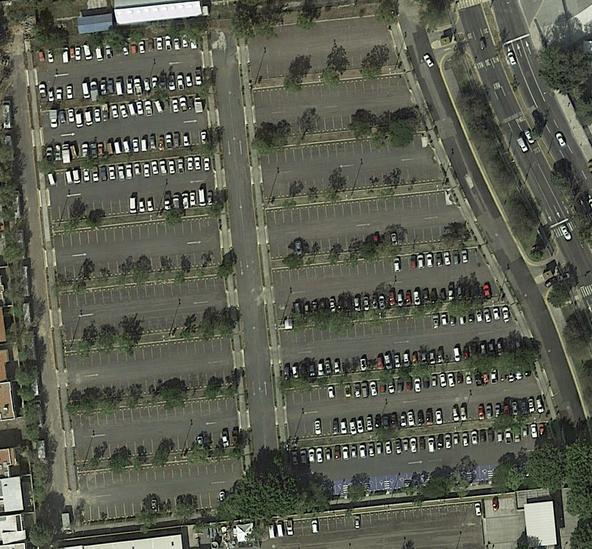parkingspot: (290, 422, 551, 467), (288, 396, 548, 441), (285, 363, 538, 406), (282, 338, 524, 381), (278, 304, 512, 347), (276, 280, 494, 321), (267, 500, 483, 540), (272, 247, 480, 286), (269, 224, 451, 261), (266, 190, 448, 226), (41, 93, 208, 132), (34, 32, 201, 69), (50, 187, 217, 224), (263, 166, 437, 201), (46, 154, 214, 190), (58, 274, 226, 310), (63, 308, 231, 344), (38, 68, 205, 104), (44, 128, 211, 164), (56, 249, 223, 285), (65, 334, 232, 370), (71, 394, 238, 430), (74, 429, 241, 465), (53, 214, 219, 250), (77, 455, 244, 490), (260, 132, 424, 166), (68, 369, 236, 402), (256, 108, 412, 141), (253, 74, 400, 108), (81, 492, 220, 524), (246, 14, 386, 45), (250, 51, 389, 81), (334, 471, 420, 497), (484, 497, 518, 519), (468, 464, 493, 484)
